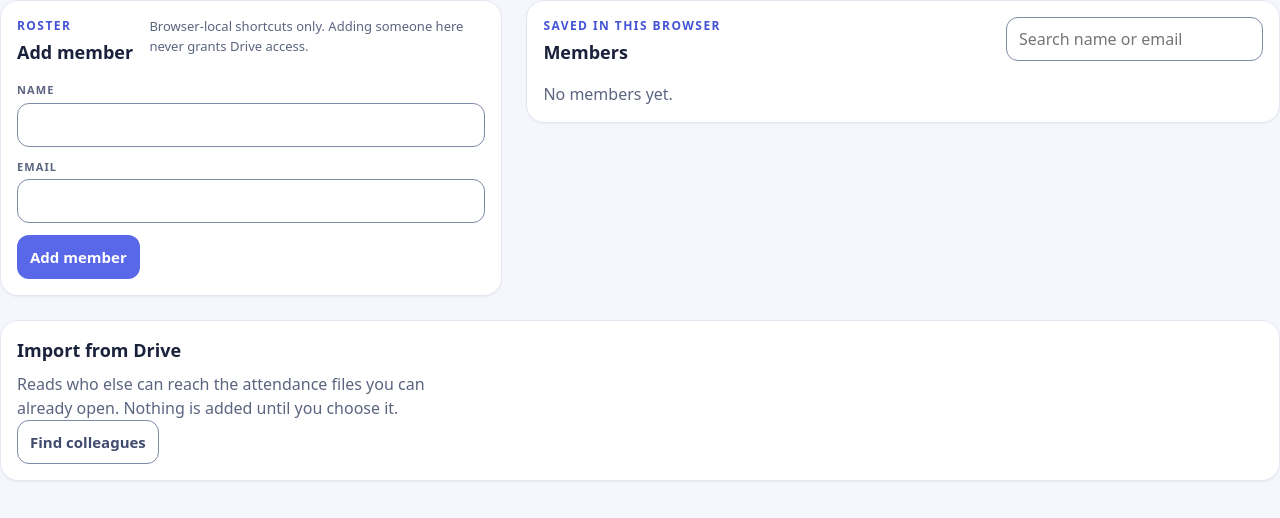
MemberRoster › refuses a missing address
The image size is (1280, 518).
Type "THAI GIA HAN" into the field labelled "Name" at (251, 124), box x1=17 y1=102 x2=485 y2=146
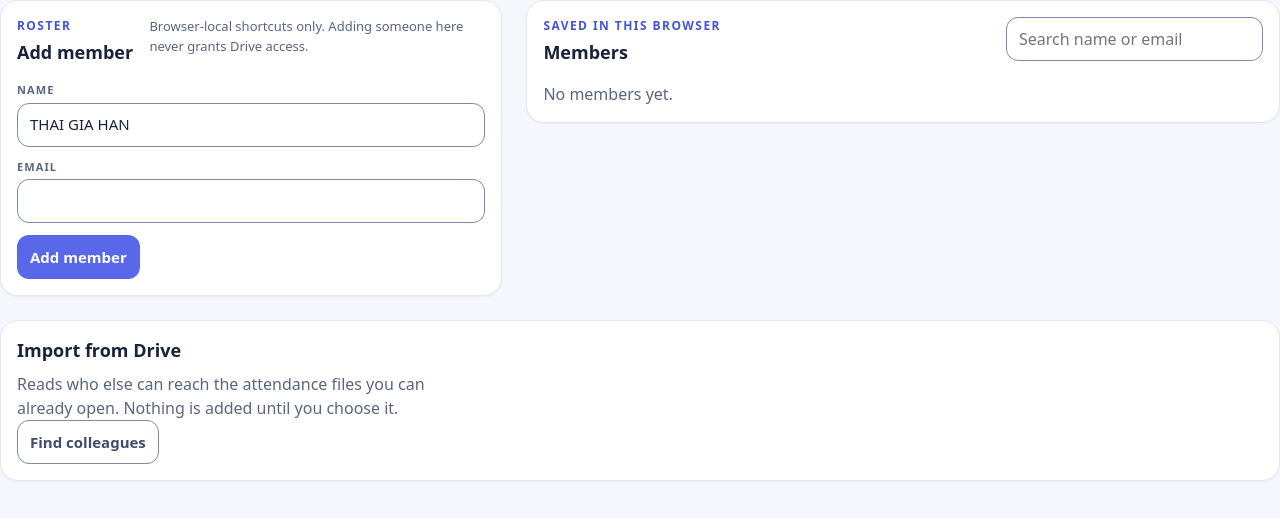
Click the button "Add member" at (78, 257), box x1=17 y1=235 x2=140 y2=279
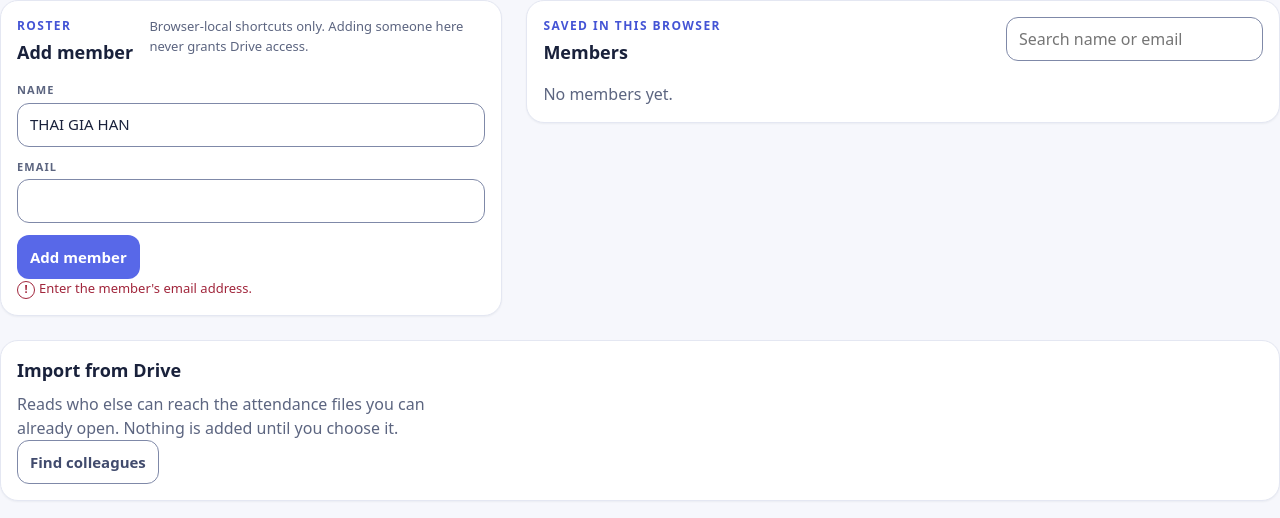
Result: the message reads "Enter the member's email address." at x1=39 y1=279 x2=252 y2=297
